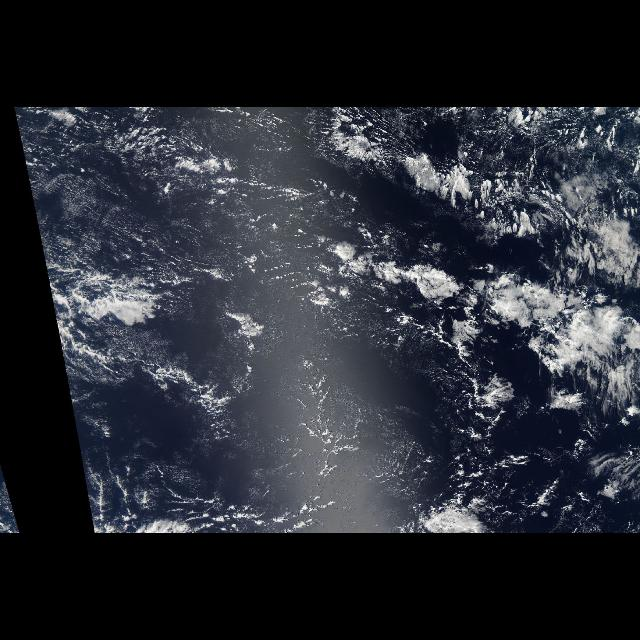Sugar: (85, 294, 448, 514), (22, 145, 238, 289)
